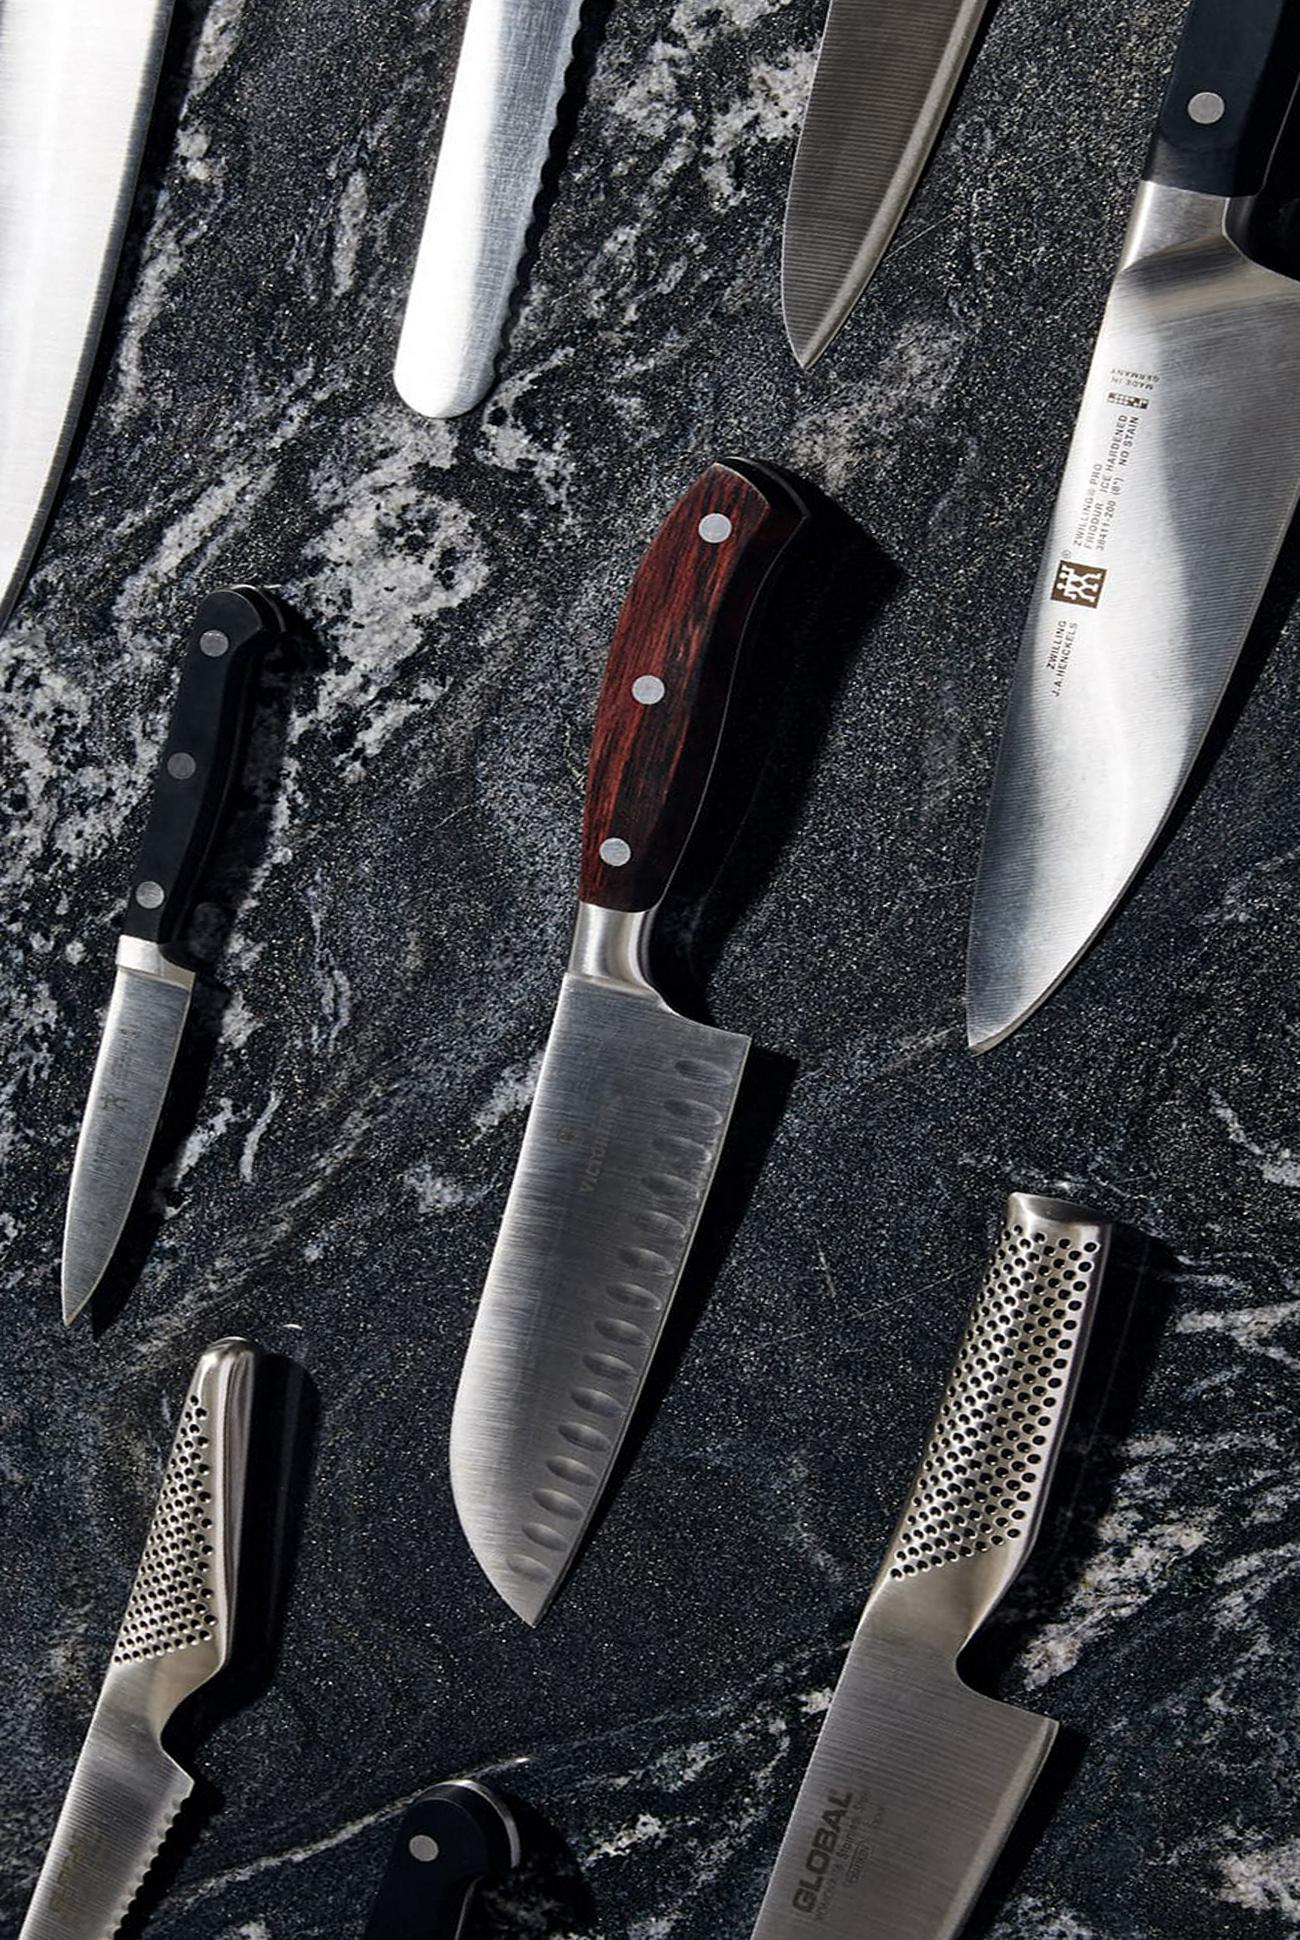knife: (451, 464, 804, 1631), (59, 599, 268, 1320)
